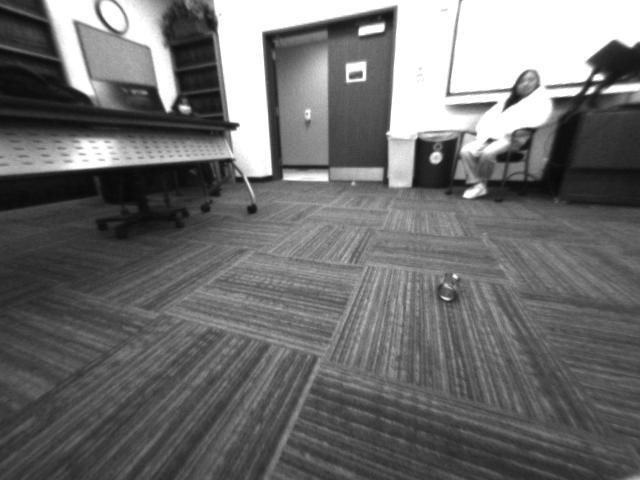can: (432, 265, 465, 307)
